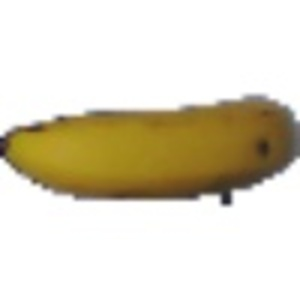banana: (3, 91, 297, 206)
